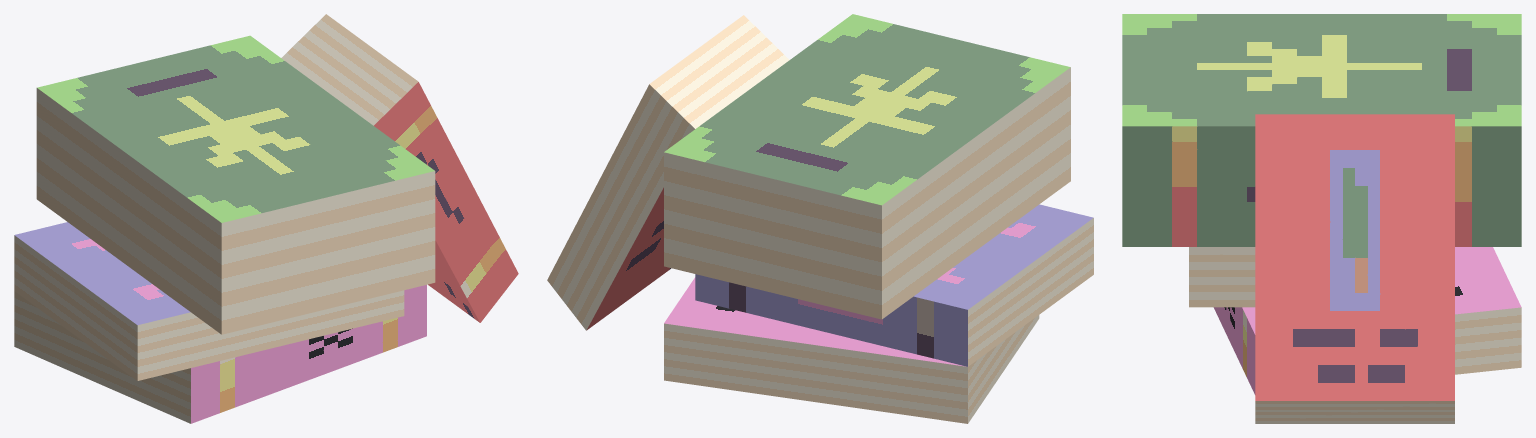
The model's file is PileBook.gltf.
3 views of the same model, side by side, from view 1: azimuth 30°, elevation 25°; view 2: azimuth 150°, elevation 25°; view 3: azimuth 270°, elevation 25° (orthographic). The views are drawn at different scales.
Size of the model in its own units: 1.93 by 1.15 by 1.5.
1 material, 1 textured.
